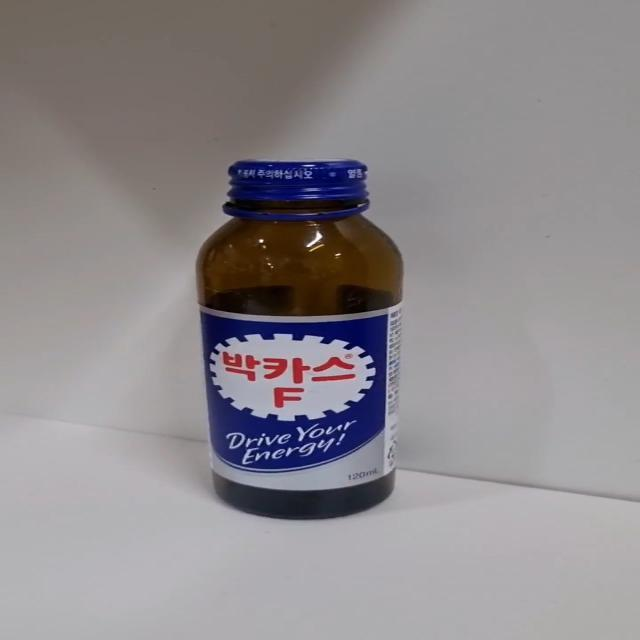Glass: (194, 160, 405, 522)
